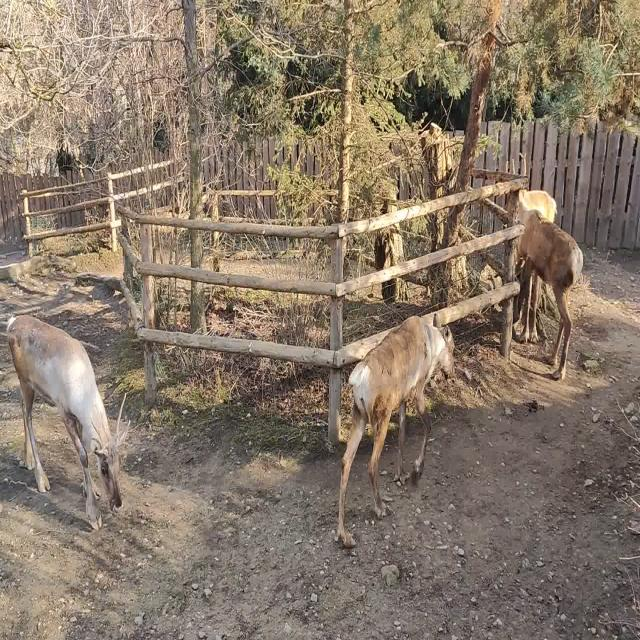deer: (338, 312, 455, 548), (6, 314, 130, 532), (519, 209, 584, 381), (506, 152, 557, 222)
